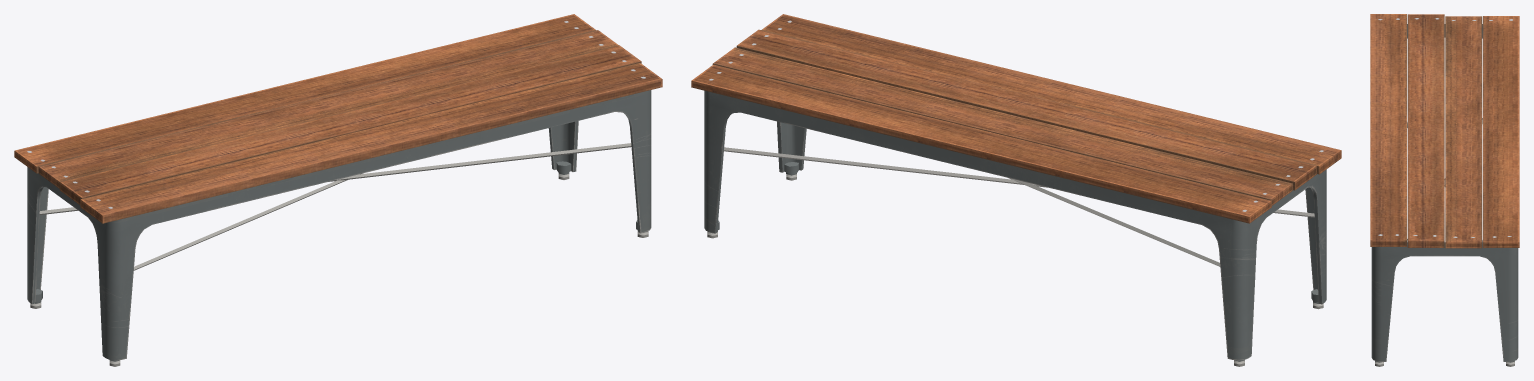
File: banc.glb
The picture shows the model from 3 angles, left to right: view 1: azimuth 30°, elevation 25°; view 2: azimuth 150°, elevation 25°; view 3: azimuth 270°, elevation 25°; orthographic projection. The views are drawn at different scales.
Parts seen in each view (by area): view 1: eb_hipster_bench_01; view 2: eb_hipster_bench_01; view 3: eb_hipster_bench_01.
Part boxes in pixels (<box>): eb_hipster_bench_01: <box>14,14,662,366</box>; eb_hipster_bench_01: <box>691,14,1341,366</box>; eb_hipster_bench_01: <box>1370,14,1519,366</box>.
Bounding box in the file's own units: 211 × 56.45 × 58.55.
1 material, 1 textured.
